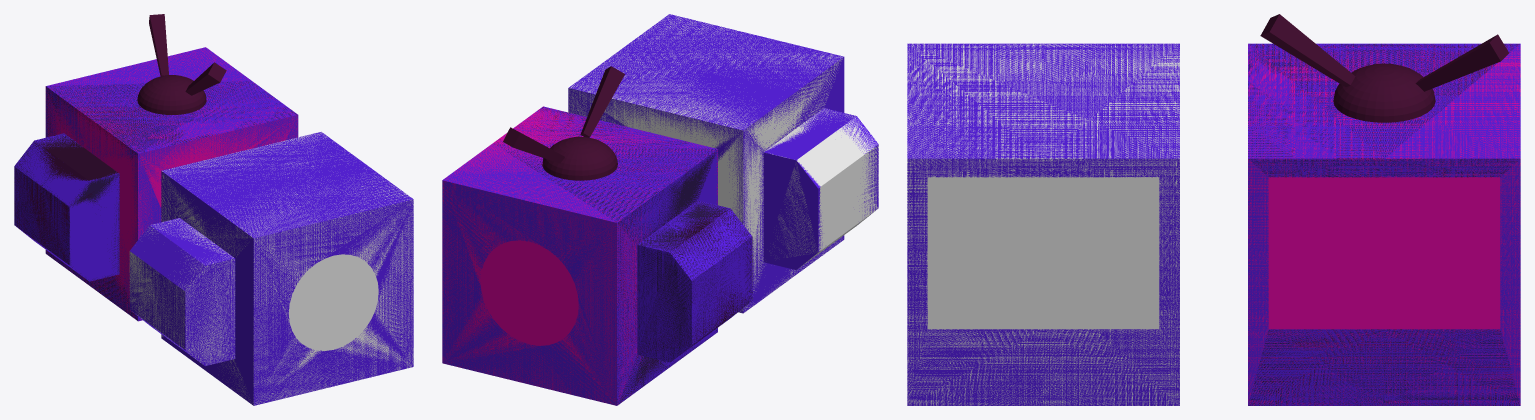
File: TV_HEAD_WireFrame_Outline_Chunky_Border_Basic_Color.glb
3 views of the same model, side by side, from view 1: azimuth 30°, elevation 25°; view 2: azimuth 150°, elevation 25°; view 3: azimuth 270°, elevation 25° (orthographic). The views are drawn at different scales.
Parts seen in each view (by area): view 1: Main_Body.001, Main_Body, Body_Basic_Shape, Test_Outline_Wireframe, Main_Body_Wireframe, Chunky_Border_Main_Body, Antenna_Base, Antenna_Right, Antenna_Left; view 2: Main_Body, Main_Body.001, Test_Outline_Wireframe, Body_Basic_Shape, Main_Body_Wireframe, Chunky_Border_Main_Body, Antenna_Base, Antenna_Left, Antenna_Right; view 3: Body_Basic_Shape, Main_Body.001, Test_Outline_Wireframe, Main_Body, Main_Body_Wireframe, Antenna_Base, Antenna_Left, Antenna_Right.
Boxes of the visible parts, box(x1,y1,x2,y2) form: Main_Body.001: box(129, 132, 413, 405); Main_Body: box(14, 47, 298, 321); Body_Basic_Shape: box(129, 132, 413, 405); Test_Outline_Wireframe: box(45, 47, 297, 320); Main_Body_Wireframe: box(14, 81, 296, 320); Chunky_Border_Main_Body: box(14, 91, 135, 313); Antenna_Base: box(137, 75, 206, 114); Antenna_Right: box(149, 14, 168, 76); Antenna_Left: box(185, 62, 226, 95); Main_Body: box(442, 106, 752, 405); Main_Body.001: box(568, 14, 878, 313); Test_Outline_Wireframe: box(442, 106, 717, 405); Body_Basic_Shape: box(568, 14, 878, 313); Main_Body_Wireframe: box(494, 107, 752, 404); Chunky_Border_Main_Body: box(617, 155, 752, 404); Antenna_Base: box(542, 136, 617, 180); Antenna_Left: box(580, 66, 624, 137); Antenna_Right: box(503, 127, 564, 163); Body_Basic_Shape: box(907, 43, 1179, 405); Main_Body.001: box(907, 43, 1179, 405); Test_Outline_Wireframe: box(1248, 44, 1520, 405); Main_Body: box(1248, 43, 1520, 405); Main_Body_Wireframe: box(1248, 43, 1519, 405); Antenna_Base: box(1333, 63, 1435, 122); Antenna_Left: box(1260, 14, 1355, 86); Antenna_Right: box(1415, 34, 1508, 91).
Size of the model in its own units: 10.5 by 10.98 by 18.
